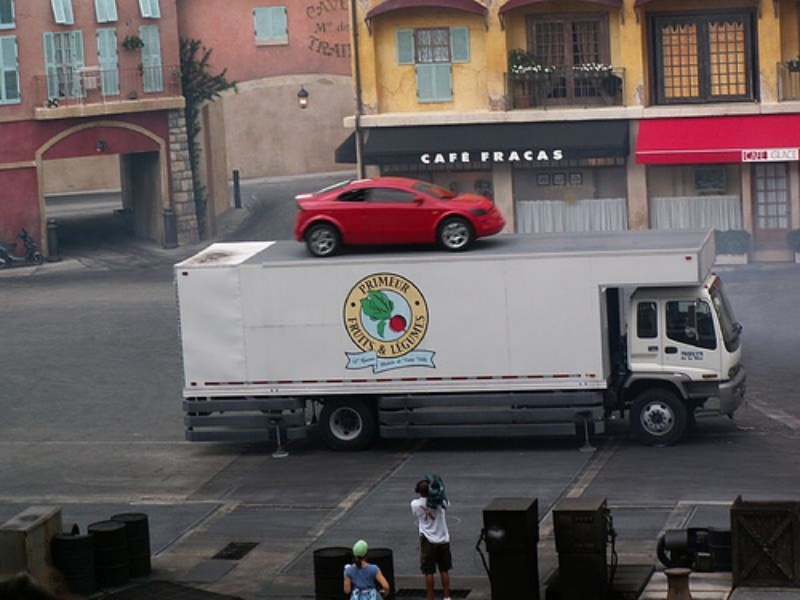car: (174, 230, 747, 456), (296, 177, 506, 256)
person: (409, 479, 455, 600), (342, 539, 388, 600)
